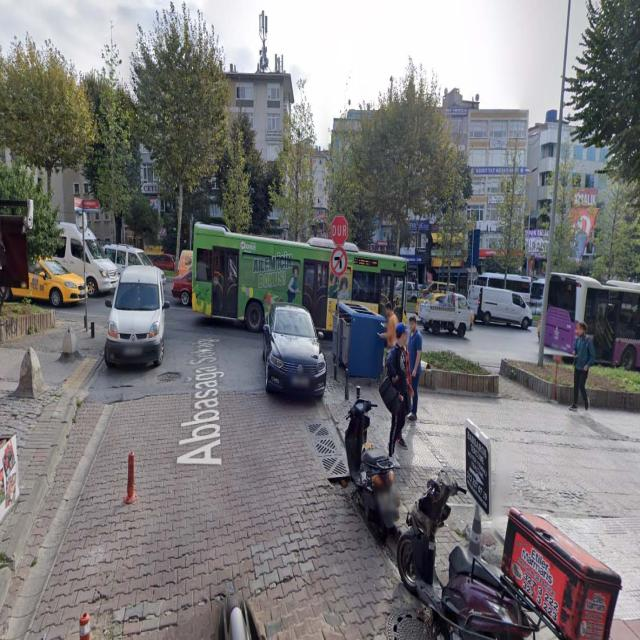dur: (331, 215, 349, 244)
soladonulmez: (332, 246, 348, 275)
